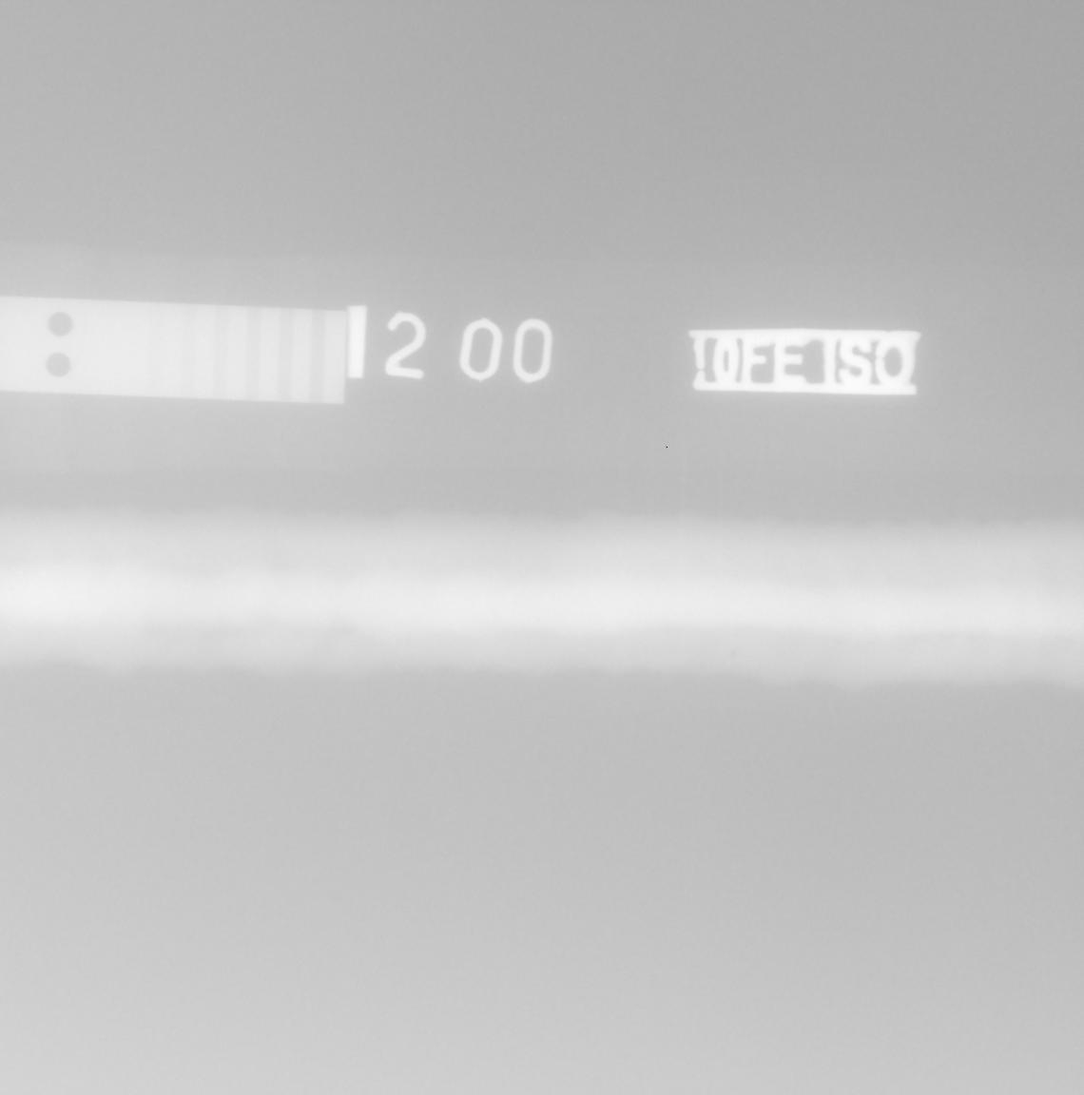Pore/Porosity: (729, 649, 737, 658)
